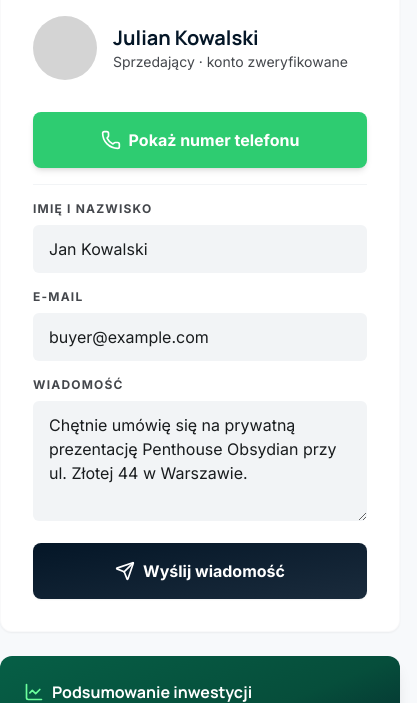
Test case: ContactSidebar › submits inquiry form with mock confirmation
Check: the field labelled "Imię i nazwisko" holds "Jan Kowalski", box [33,225,367,273]
Check: the field labelled "E-mail" holds "buyer@example.com", box [33,313,367,361]
Click the button "Wyślij wiadomość". click: [200, 571]
box: [33,543,367,599]
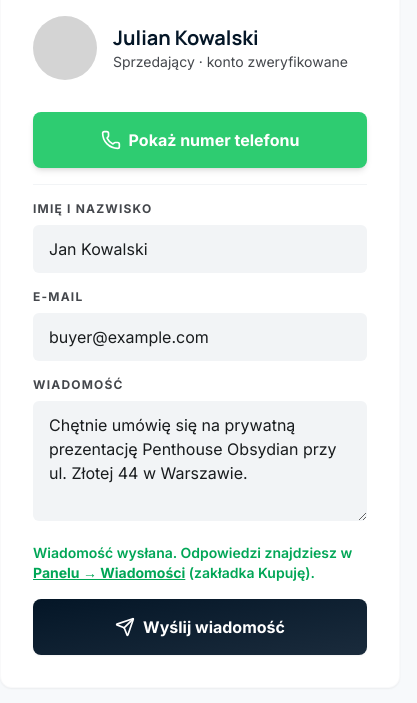
Check: the text "Wiadomość wysłana. Odpowiedzi znajdziesz w" is shown, box [33,544,352,561]
